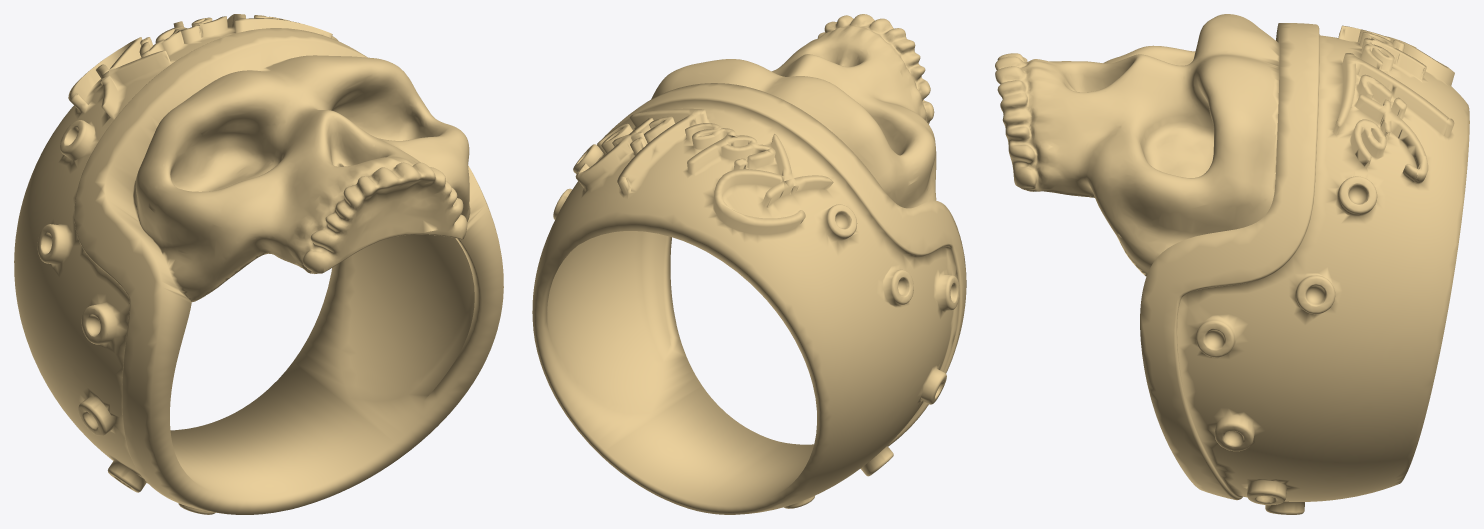
Rendered from Skull-ring.glb.
The picture shows the model from 3 angles, left to right: view 1: azimuth 30°, elevation 25°; view 2: azimuth 150°, elevation 25°; view 3: azimuth 270°, elevation 25°; orthographic projection. The views are drawn at different scales.
Visible parts, largest first — view 1: anillo calavera ride; view 2: anillo calavera ride; view 3: anillo calavera ride.
Boxes of the visible parts, left/top/right/bottom form: anillo calavera ride: left=14, top=14, right=503, bottom=514; anillo calavera ride: left=532, top=14, right=966, bottom=514; anillo calavera ride: left=995, top=14, right=1469, bottom=514.
Size of the model in its own units: 2.15 by 2.32 by 2.23.
